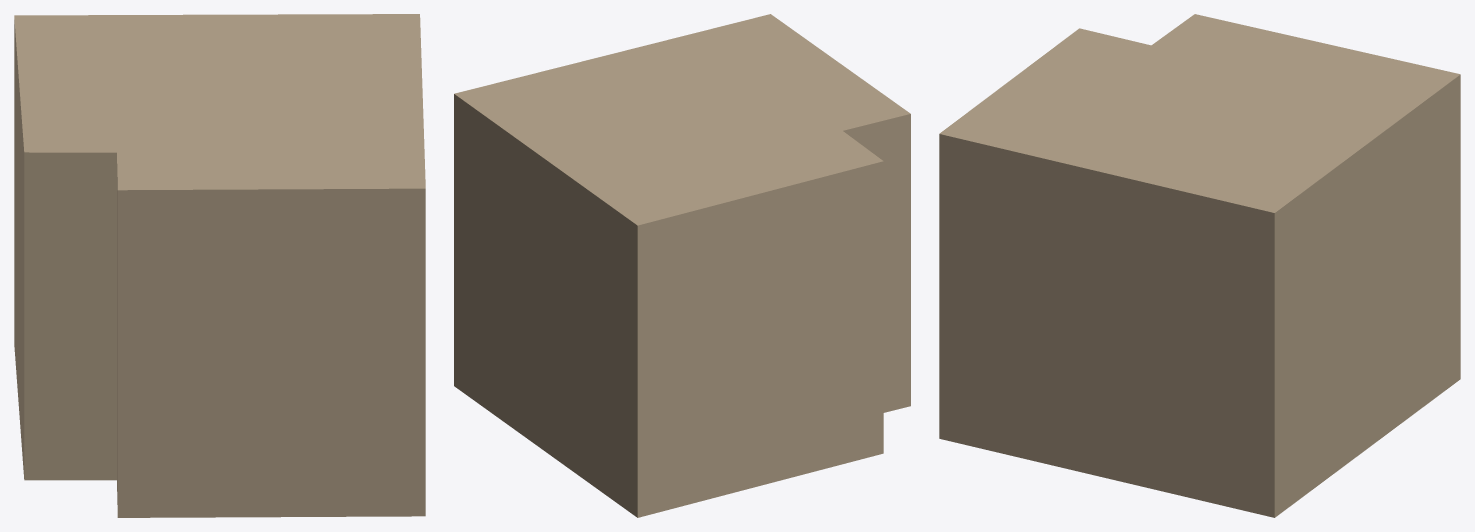
File: bld_99532066.dae
3 views of the same model, side by side, from view 1: azimuth 30°, elevation 25°; view 2: azimuth 150°, elevation 25°; view 3: azimuth 270°, elevation 25° (orthographic). The views are drawn at different scales.
Visible parts, largest first — view 1: bld_99532066; view 2: bld_99532066; view 3: bld_99532066.
Boxes of the visible parts, left/top/right/bottom form: bld_99532066: left=14, top=14, right=425, bottom=517; bld_99532066: left=454, top=14, right=910, bottom=517; bld_99532066: left=939, top=14, right=1460, bottom=517.
Bounding box in the file's own units: 11.21 × 12.4 × 8.
